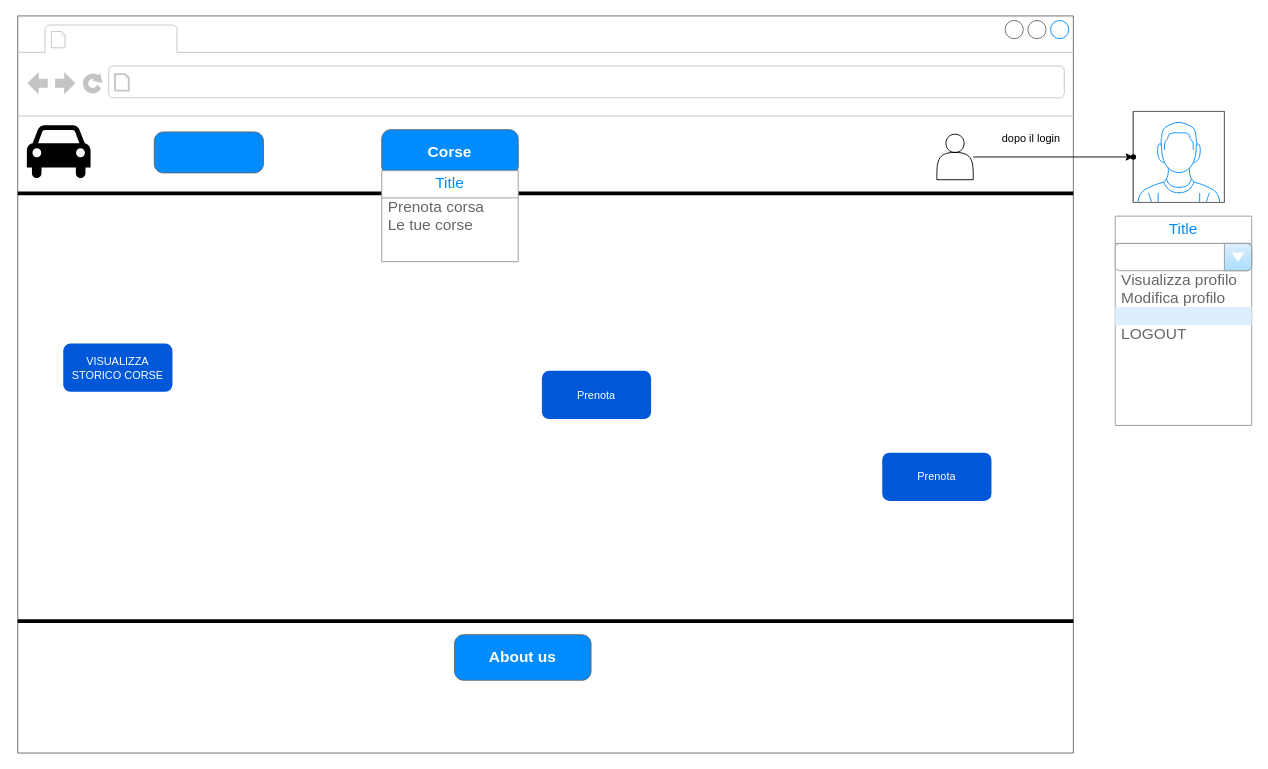
This 1268x769 diagram has some shape labels left out. The centre of each missing label's shape, as x and y in pixels:
"dropdown" belongs at [1183,257].
"Home" belongs at [208,152].
"https://www.mypersonaldriver/documents.it" belongs at [249,82].
"Page 1" belongs at [121,38].
